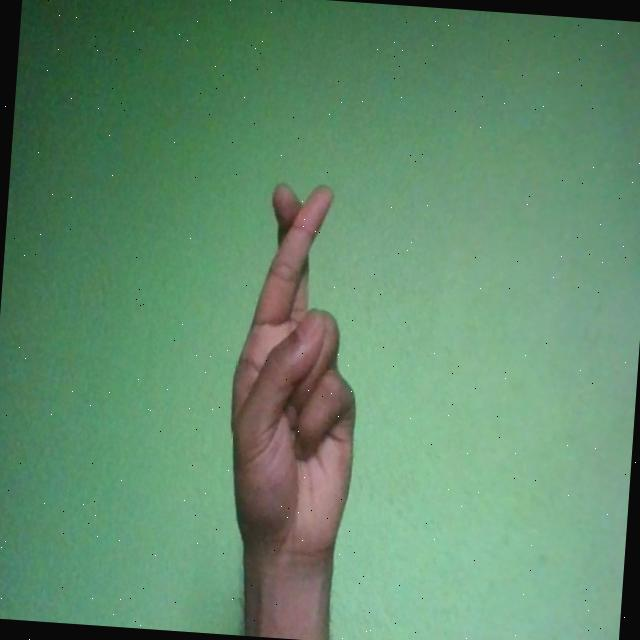Ok: (219, 178, 373, 564)
